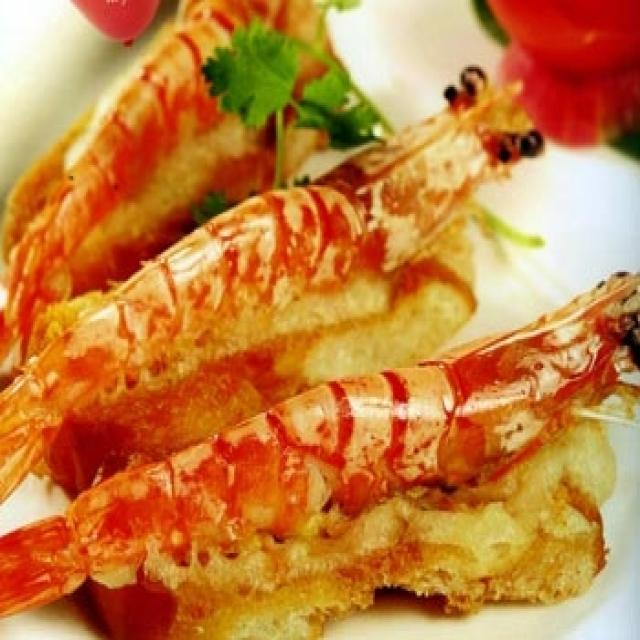炸货点心: (6, 9, 622, 609)
熟制海鲜: (6, 9, 622, 609)
